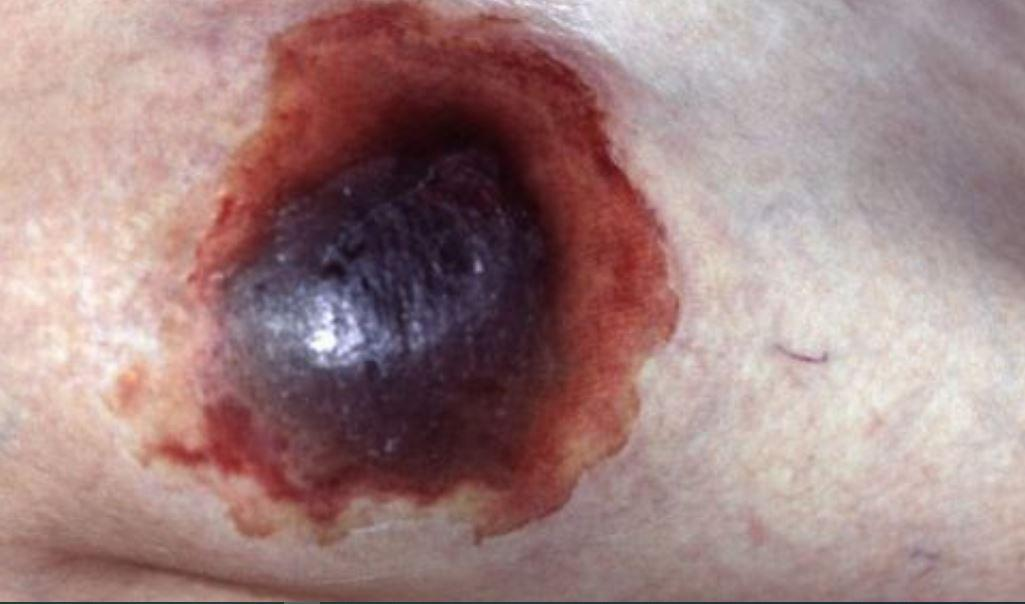Stage4: (164, 17, 689, 555)
